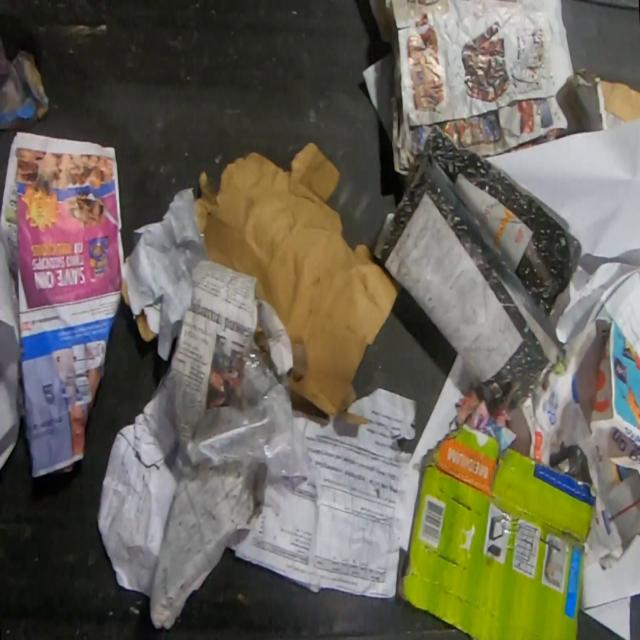cardboard: (194, 139, 403, 426), (380, 121, 582, 415), (396, 420, 598, 640), (0, 32, 51, 133), (569, 64, 640, 131), (135, 309, 159, 342), (121, 276, 131, 307)
soft_plastic: (148, 332, 311, 507), (549, 438, 592, 484)
